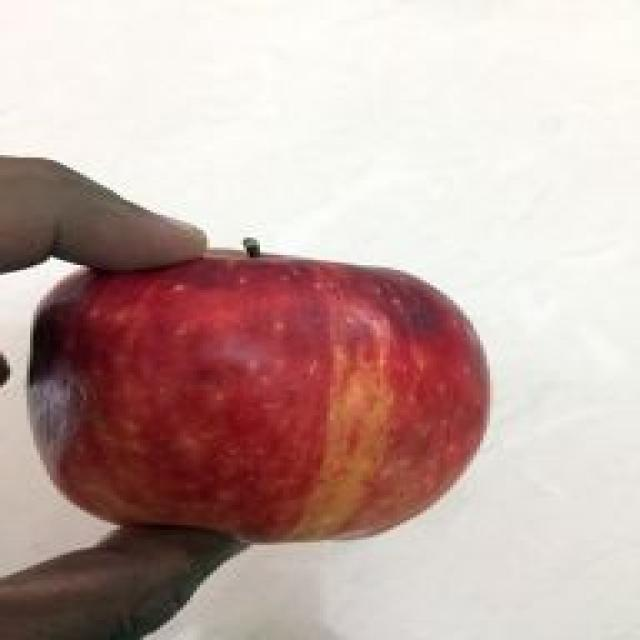Rotten_Apple: (23, 220, 500, 555)
